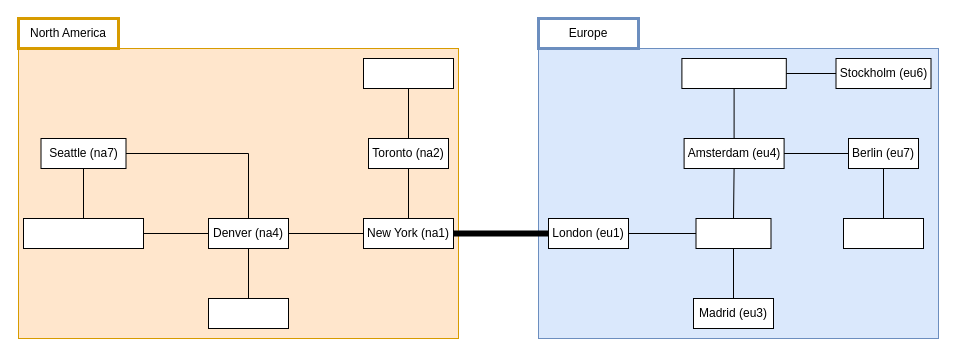
This 956x356 diagram has some shape labels left out. The centre of each missing label's shape, as x and y in pixels:
Austin (na5): [248,313]
Copenhagen (eu5): [733,73]
Montreal (na3): [408,73]
Paris (eu2): [733,233]
Prague (eu8): [883,233]
San Fransisco (na6): [83,233]
